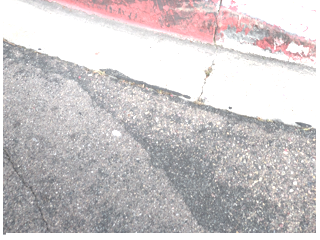Edge: (43, 1, 317, 62)
